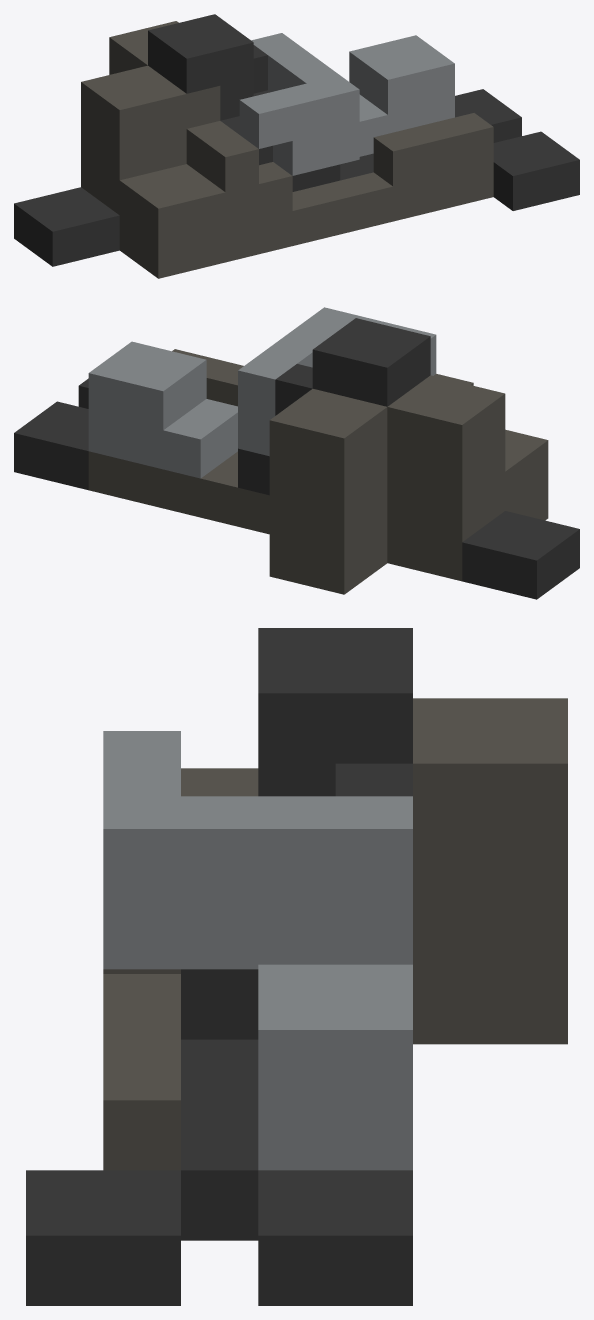
File: Leg-19.obj
The picture shows the model from 3 angles, top to bottom: view 1: azimuth 30°, elevation 25°; view 2: azimuth 150°, elevation 25°; view 3: azimuth 270°, elevation 25°; orthographic projection. The views are drawn at different scales.
Size of the model in its own units: 1.4 by 0.5 by 0.7.
Materials: 1 (1 with a texture image).
